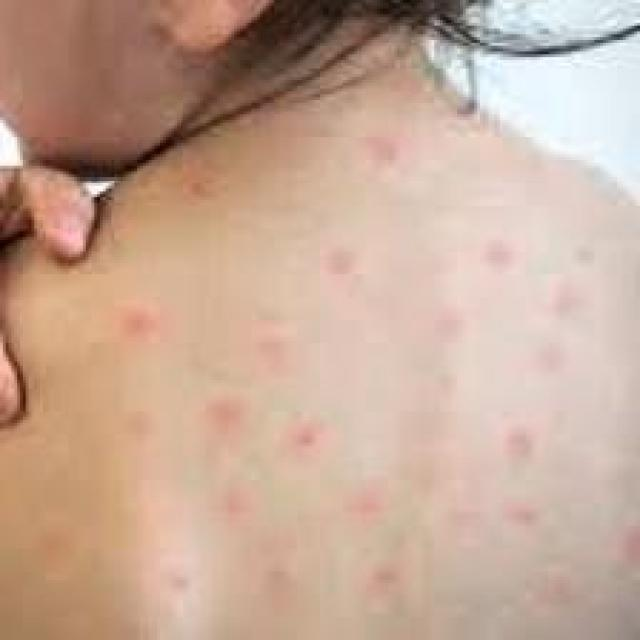others: (0, 137, 614, 640)
